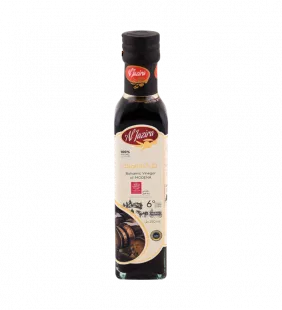AL JAZIRA: (107, 20, 180, 285)
